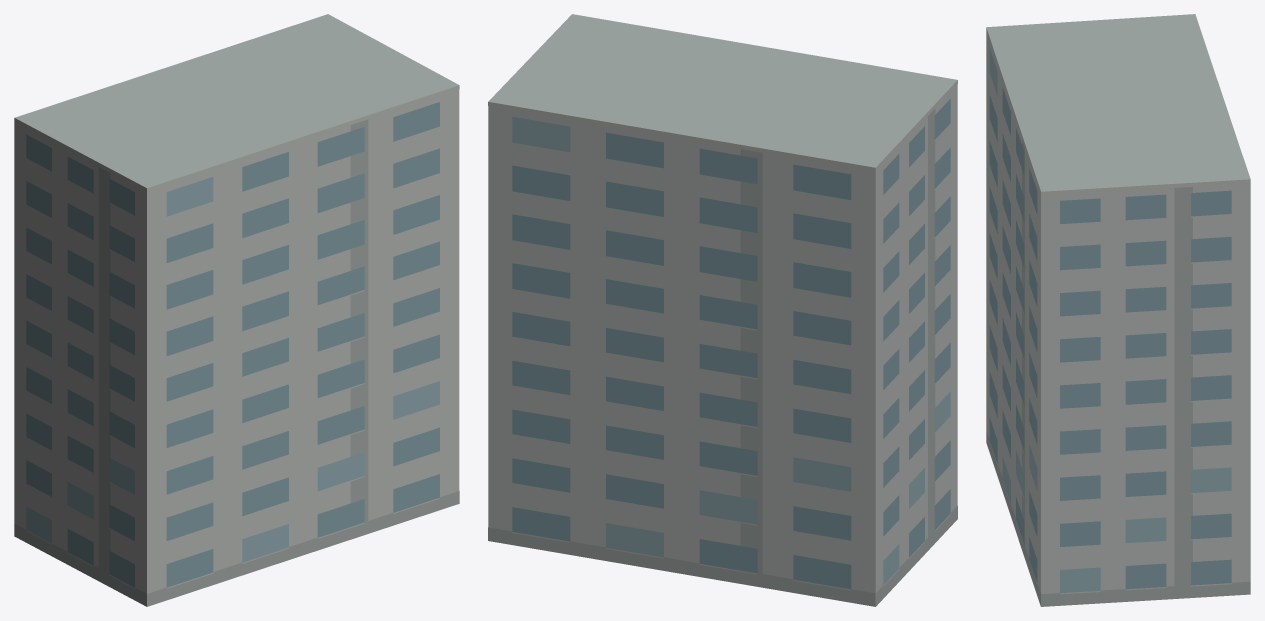
Rendered from survey-upis-32744098.glb.
The picture shows the model from 3 angles, left to right: view 1: azimuth 30°, elevation 25°; view 2: azimuth 150°, elevation 25°; view 3: azimuth 270°, elevation 25°; orthographic projection. The views are drawn at different scales.
Parts seen in each view (by area): view 1: survey-upis-32744098.tmp; view 2: survey-upis-32744098.tmp; view 3: survey-upis-32744098.tmp.
Part boxes in pixels (x1,y1,x2,y2): survey-upis-32744098.tmp: (14, 14, 459, 606); survey-upis-32744098.tmp: (488, 14, 957, 606); survey-upis-32744098.tmp: (986, 14, 1250, 606).
Size of the model in its own units: 22.59 by 24.6 by 14.21.
